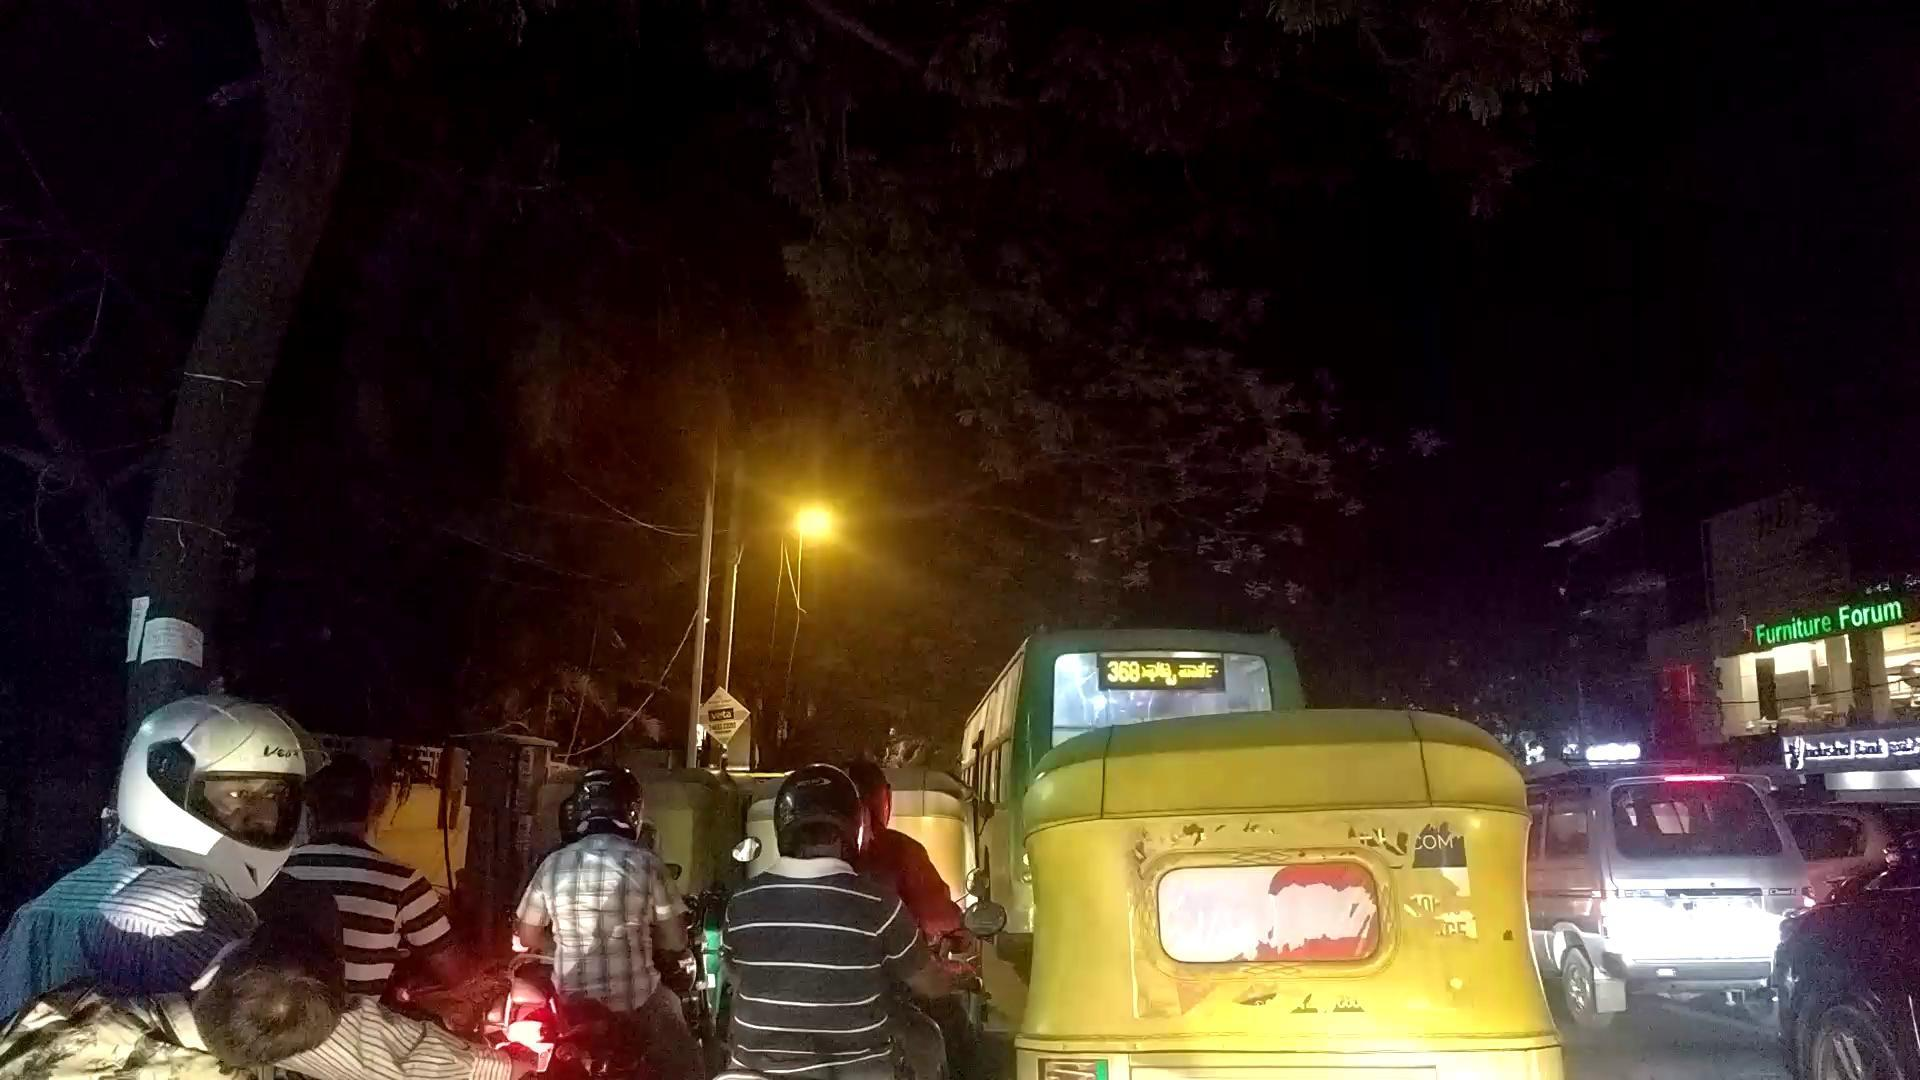on: (229, 0, 1920, 1080)
